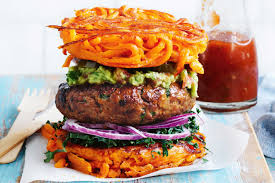hamburger: (50, 5, 211, 180)
